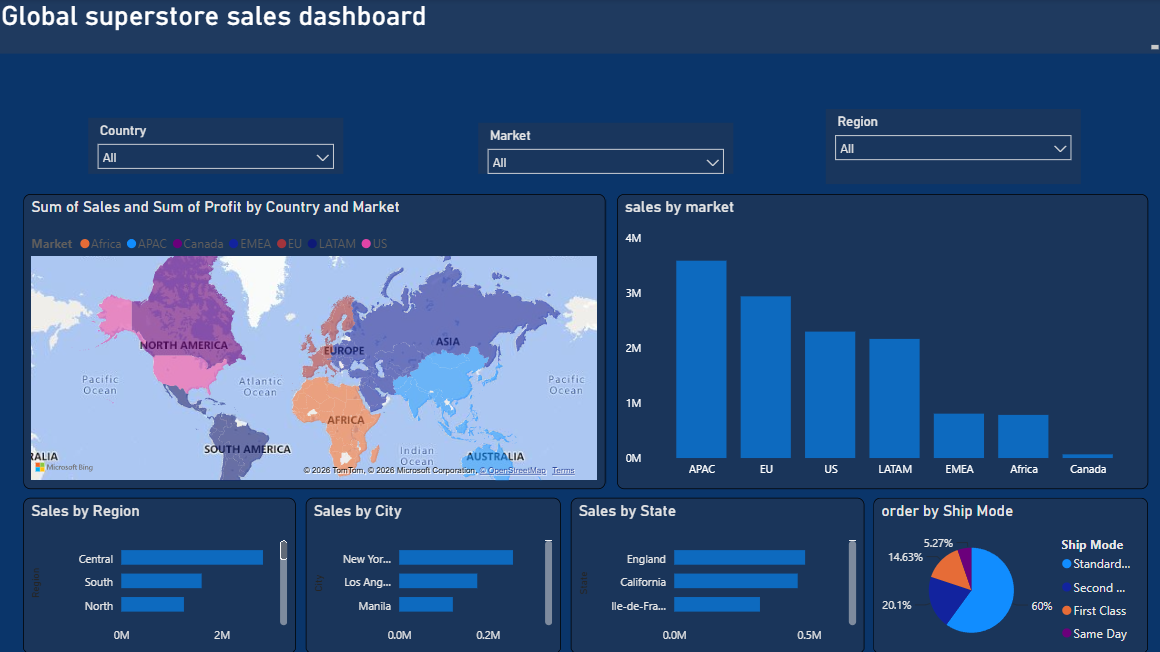

This screenshot's page, from the dashboard's own definition file:
{"tool":"powerbi","page":{"name":"Page 1","canvas":[1280,720],"ordinal":0},"visuals":[{"type":"clusteredBarChart","title":"Sales by Region","fields":{"Category":["Orders.Region"],"Y":["Sum(Orders.Sales)"]},"box":[28.8,547.5,299.1,172.9],"z":0},{"type":"filledMap","fields":{"Category":["Orders.Country"],"Series":["Orders.Market"]},"box":[28.8,214.1,639.5,323.8],"z":1000},{"type":"actionButton","box":[0,0,100,40],"z":2000},{"type":"slicer","fields":{"Values":["Orders.Market"]},"box":[528.3,135.8,279.9,56.3],"z":3000},{"type":"slicer","fields":{"Values":["Orders.Region"]},"box":[909.8,120.8,279.9,82.3],"z":4000},{"type":"slicer","fields":{"Values":["Orders.Country"]},"box":[100.2,130.4,279.9,61.7],"z":5000},{"type":"pieChart","title":"order by Ship Mode","fields":{"Category":["Orders.Ship Mode"],"Y":["CountNonNull(Orders.Row ID)"]},"box":[961.9,547.5,301.9,172.9],"z":6000},{"type":"clusteredColumnChart","title":"sales by market","fields":{"Category":["Orders.Market"],"Y":["Sum(Orders.Sales)"]},"box":[680.6,214.1,583.2,323.8],"z":7000},{"type":"barChart","title":" Sales by State","fields":{"Category":["Orders.State"],"Y":["Sum(Orders.Sales)"]},"box":[629.8,547.5,322.5,172.9],"z":8000},{"type":"barChart","title":"Sales by City","fields":{"Category":["Orders.City"],"Y":["Sum(Orders.Sales)"]},"box":[338.9,547.5,279.9,172.9],"z":9000},{"type":"textbox","title":"Global superstore sales dashboard","box":[0,0,1280.3,60.4],"z":10000}]}

Visuals, with their boxes in screenshot pixels (x1, y1, x2, y2), scaled from the page's 1280x720 canvas onto the 1160x652 screenshot:
"Sales by Region" clusteredBarChart: [26, 496, 297, 651]
filledMap - Orders.Country x Orders.Market: [26, 194, 606, 487]
actionButton: [0, 0, 91, 36]
slicer - Orders.Market: [479, 123, 732, 174]
slicer - Orders.Region: [825, 109, 1078, 184]
slicer - Orders.Country: [91, 118, 344, 174]
"order by Ship Mode" pieChart: [872, 496, 1145, 651]
"sales by market" clusteredColumnChart: [617, 194, 1145, 487]
" Sales by State" barChart: [571, 496, 863, 651]
"Sales by City" barChart: [307, 496, 561, 651]
"Global superstore sales dashboard" textbox: [0, 0, 1159, 55]
